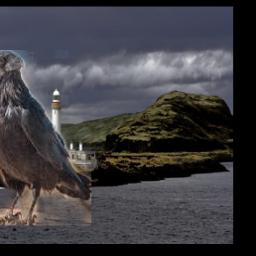Crow: (0, 51, 92, 226)
